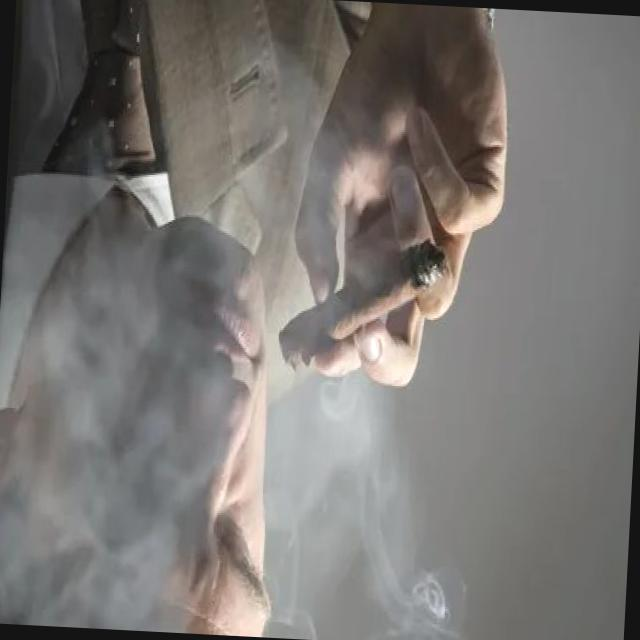cigarette: (278, 230, 448, 384)
